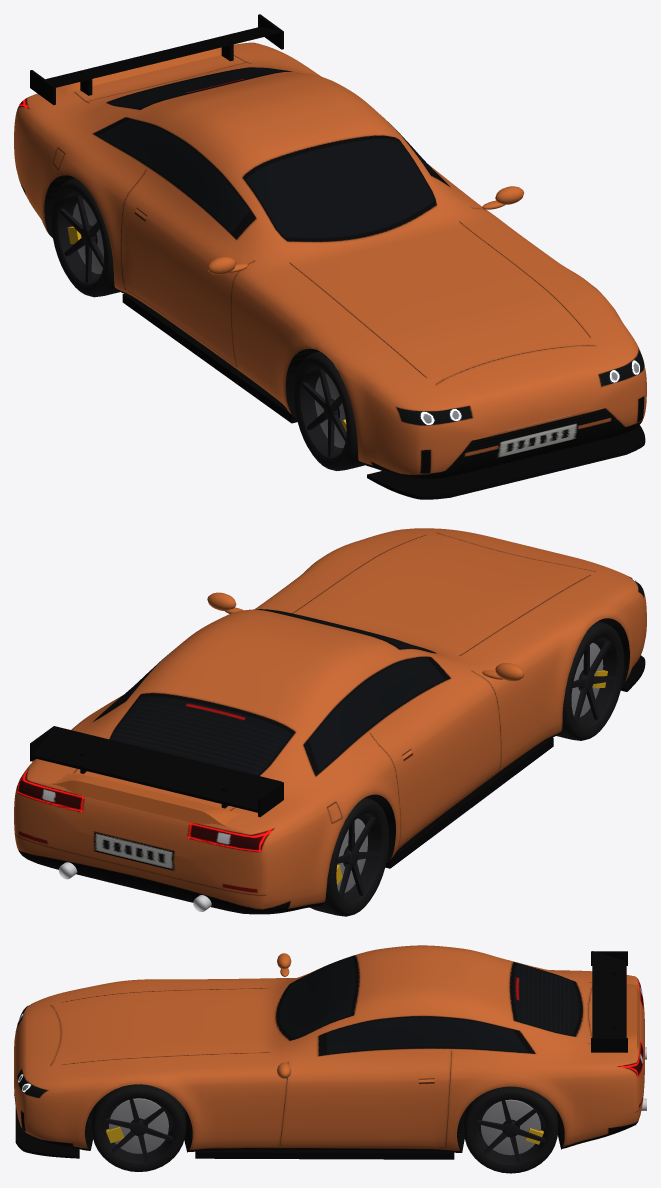
The model's file is car_copperhead.glb.
3 renders of one model, top to bottom at view 1: azimuth 30°, elevation 25°; view 2: azimuth 150°, elevation 25°; view 3: azimuth 270°, elevation 25°, orthographic. The views are drawn at different scales.
Visible parts, largest first — view 1: Body, Wheel_FR, Wheel_RR; view 2: Body, Wheel_RR, Wheel_FR; view 3: Body, Wheel_RL, Wheel_FL.
Part boxes in pixels (bbox=[...]): Body: bbox=[14, 14, 646, 499]; Wheel_FR: bbox=[293, 351, 364, 470]; Wheel_RR: bbox=[51, 178, 119, 297]; Body: bbox=[14, 528, 646, 914]; Wheel_RR: bbox=[310, 797, 389, 916]; Wheel_FR: bbox=[556, 621, 624, 740]; Body: bbox=[14, 945, 646, 1159]; Wheel_RL: bbox=[463, 1086, 558, 1173]; Wheel_FL: bbox=[91, 1084, 186, 1171].
Size of the model in its own units: 2.16 by 1.29 by 4.82.
Materials: 9 (1 with a texture image).
